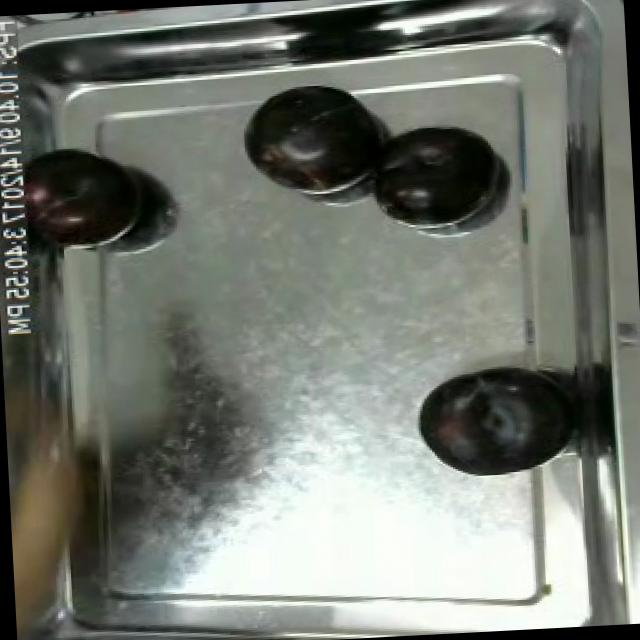Fruit: (407, 358, 579, 486), (236, 80, 390, 202), (362, 120, 499, 232)
